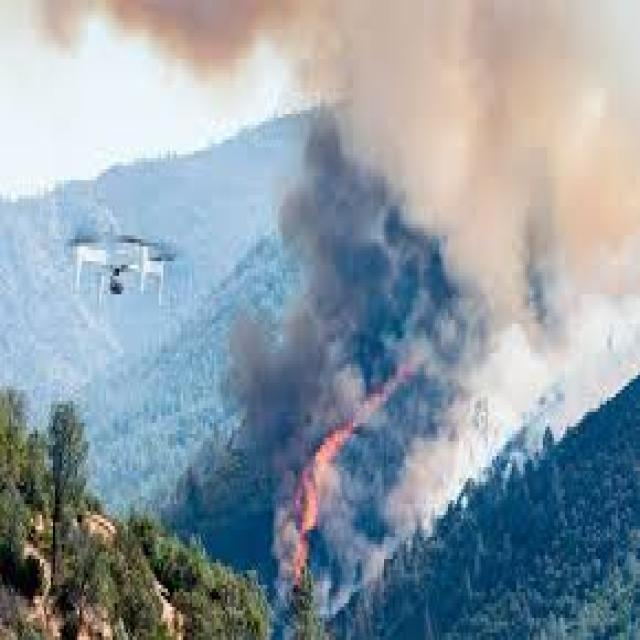drone: (59, 206, 174, 314)
